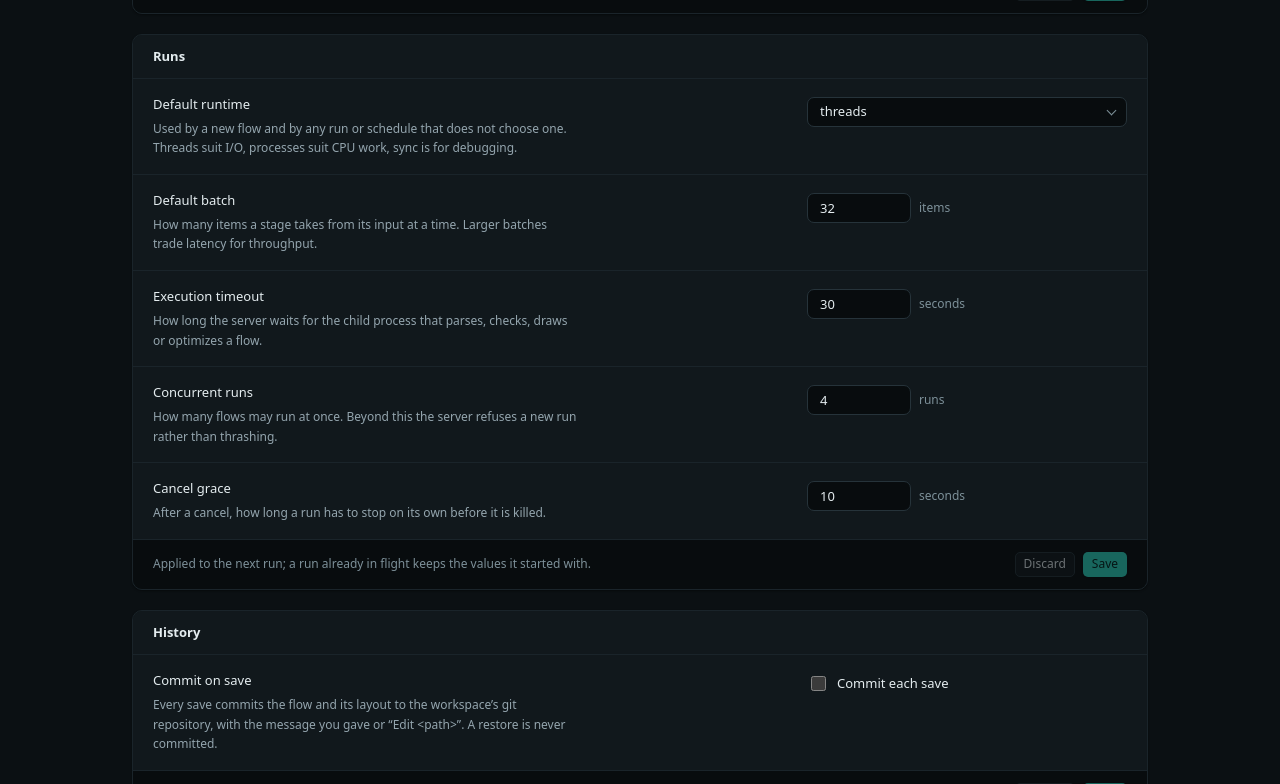
Scenario: the settings page › refuses a number that is not one, and holds the save
The image size is (1280, 784).
(page scrolled)
Clear the field labelled "Concurrent runs" at (859, 400), box [807,385,911,415]
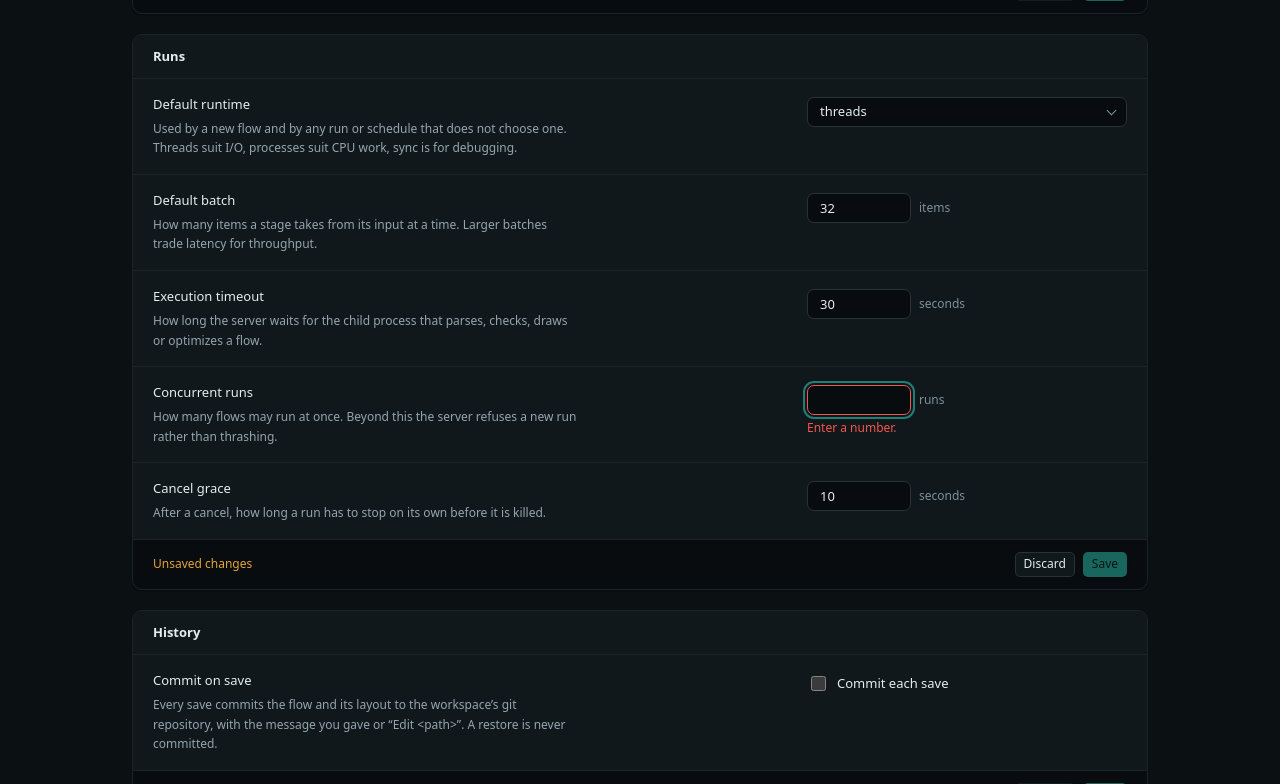
Expected: the button "Save" in the row of "Unsaved changes" is disabled, [1083,552,1127,577]
Expected: the text "Enter a number." is shown, [807,419,897,436]
Type "four" into the field labelled "Concurrent runs" at (859, 400), box [807,385,911,415]
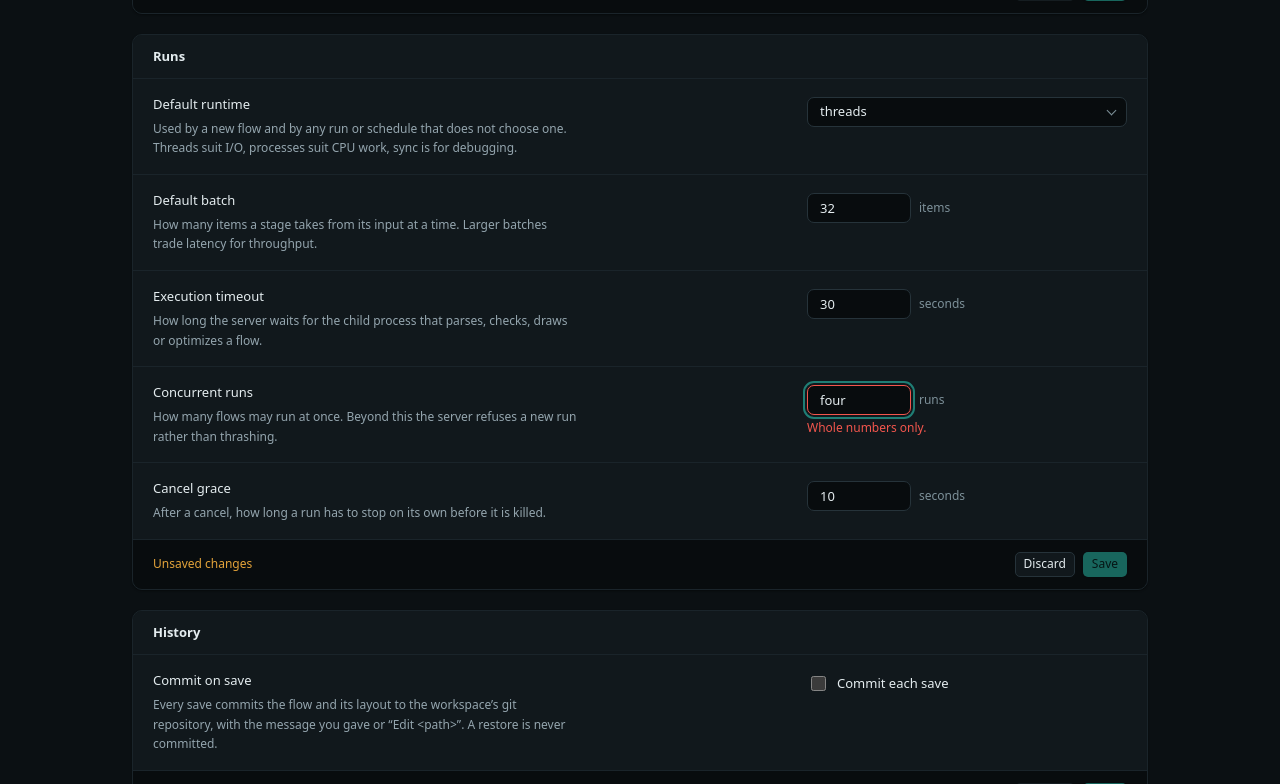
Expected: the text "Whole numbers only." is shown, [807,419,926,436]
Replace the text in the field labelled "Concurrent runs" with "999" at (859, 400), box [807,385,911,415]
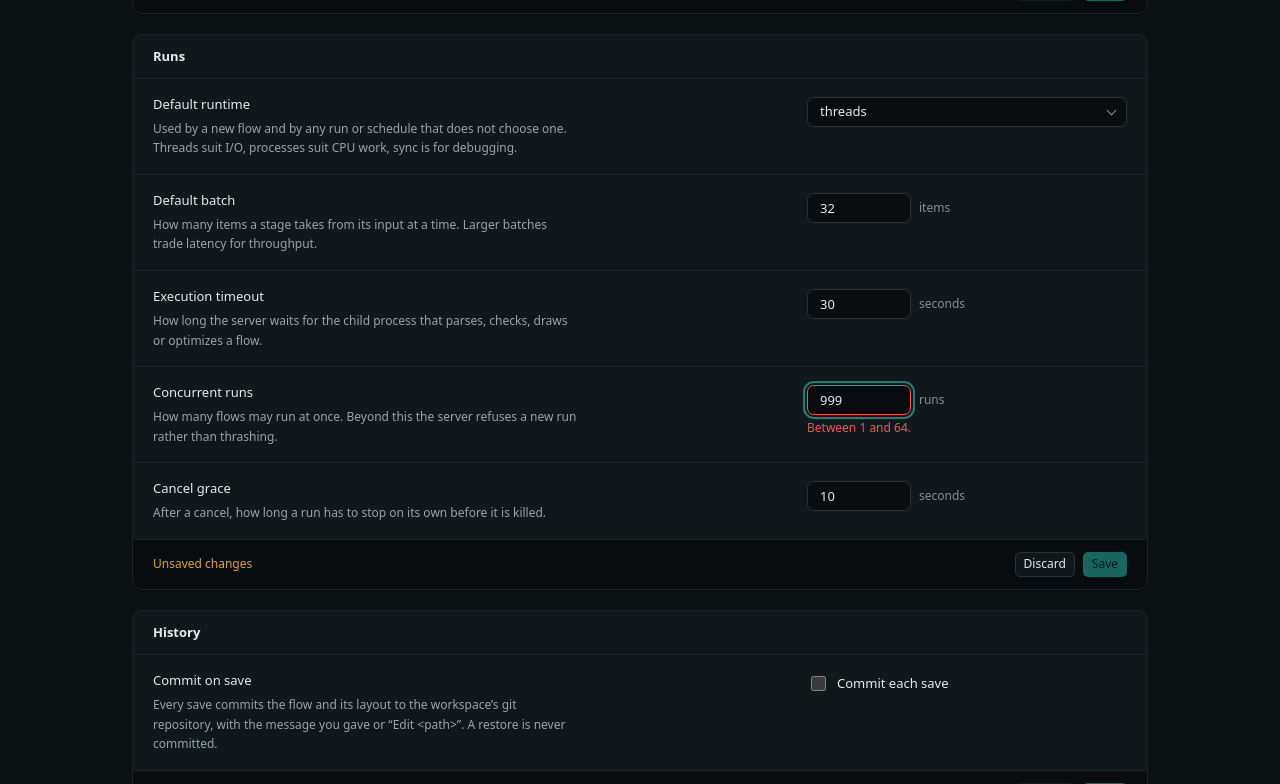
Expected: the button "Save" in the row of "Unsaved changes" is disabled, [1083,552,1127,577]
Expected: the text "Between 1 and 64." is shown, [807,419,911,436]
Replace the text in the field labelled "Concurrent runs" with "8" at (859, 400), box [807,385,911,415]
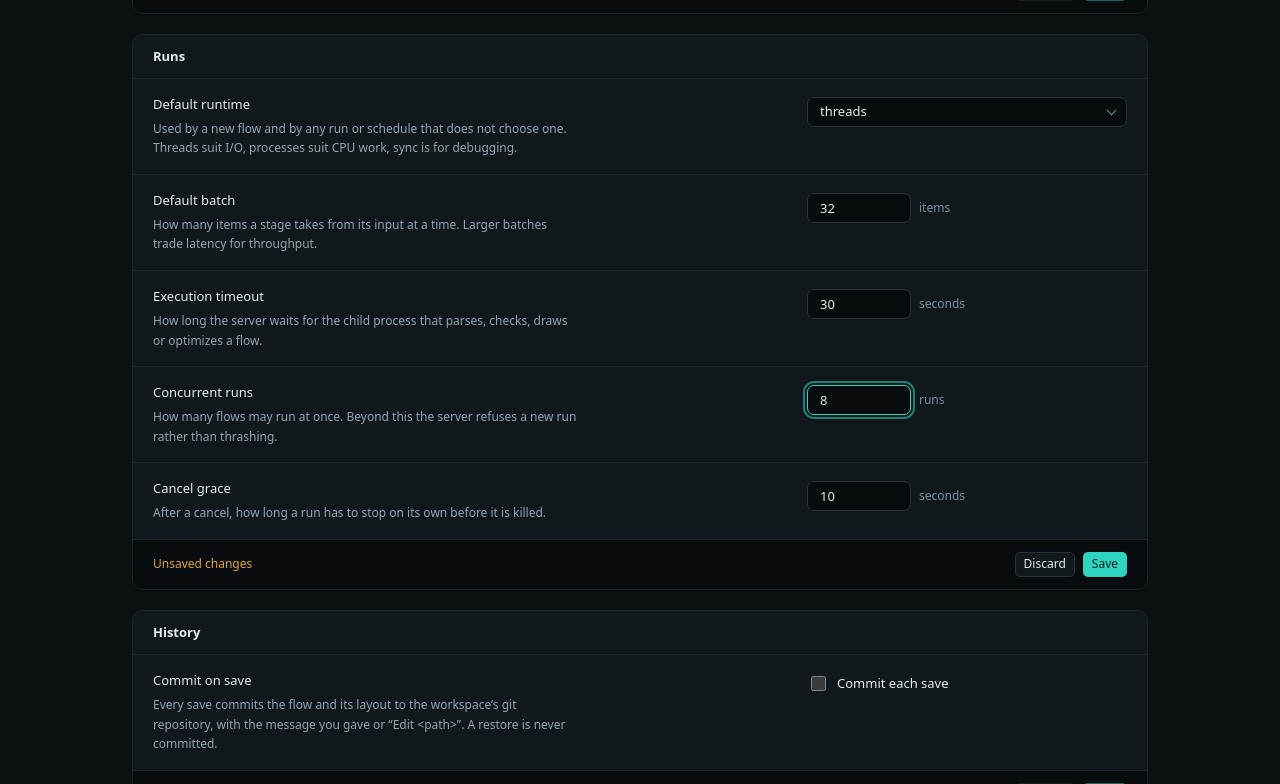
Expected: the text "Between 1 and 64" is not shown
Expected: the button "Save" in the row of "Unsaved changes" is enabled, [1083,552,1127,577]
